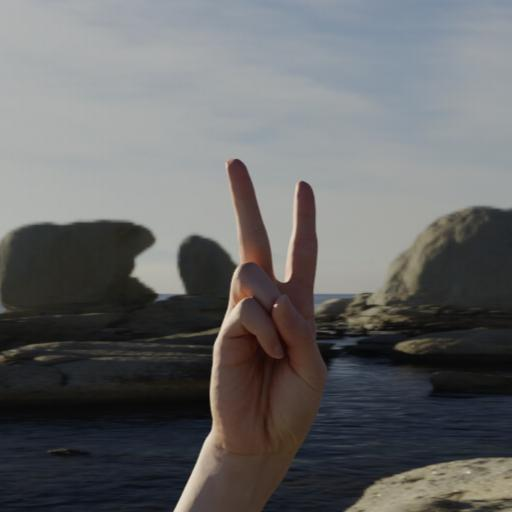V: (178, 142, 360, 470)
